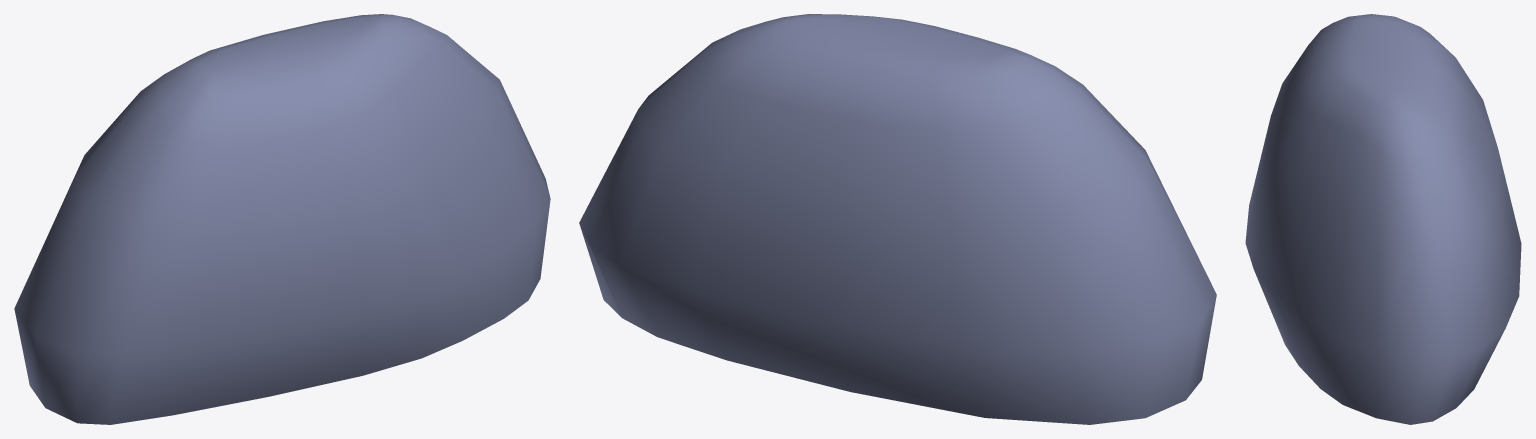
Rendered from Flag_10.fbx.
The picture shows the model from 3 angles, left to right: view 1: azimuth 30°, elevation 25°; view 2: azimuth 150°, elevation 25°; view 3: azimuth 270°, elevation 25°; orthographic projection. The views are drawn at different scales.
Visible parts, largest first — view 1: Flag_10; view 2: Flag_10; view 3: Flag_10.
Part boxes in pixels (x1,y1,x2,y2): Flag_10: (14,14,550,424); Flag_10: (579,14,1216,424); Flag_10: (1245,14,1521,424).
Size of the model in its own units: 62.7 by 31.79 by 31.24.
